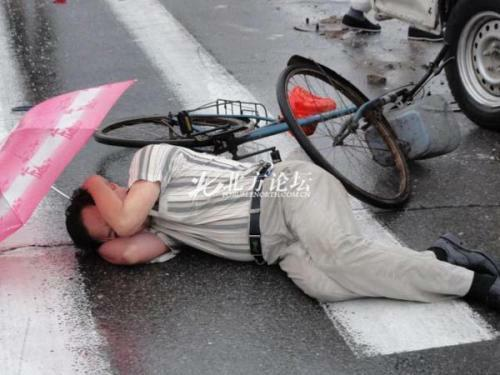Fall-Detected: (44, 133, 500, 323)
